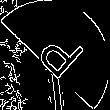P_SW: (25, 24, 85, 86)
